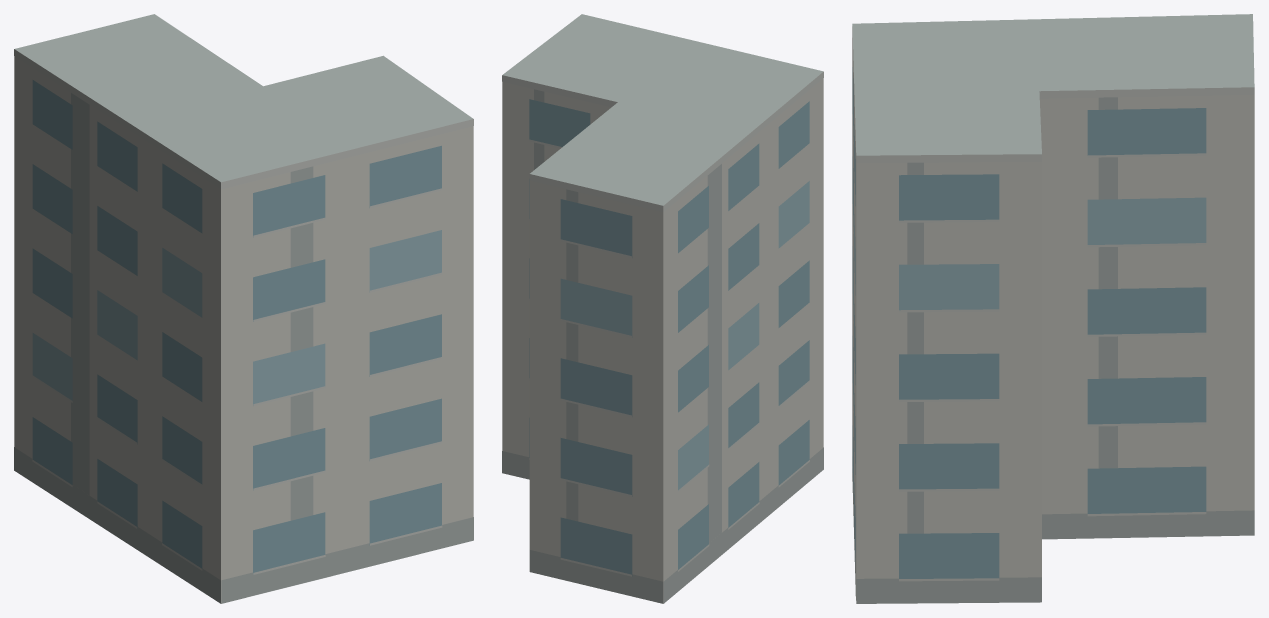
File: survey-upis-32916882.glb
3 views of the same model, side by side, from view 1: azimuth 30°, elevation 25°; view 2: azimuth 150°, elevation 25°; view 3: azimuth 270°, elevation 25° (orthographic). The views are drawn at different scales.
Parts seen in each view (by area): view 1: survey-upis-32916882.tmp; view 2: survey-upis-32916882.tmp; view 3: survey-upis-32916882.tmp.
Boxes of the visible parts, x1=… form: survey-upis-32916882.tmp: x1=14, y1=14, x2=473, y2=603; survey-upis-32916882.tmp: x1=502, y1=14, x2=823, y2=603; survey-upis-32916882.tmp: x1=852, y1=14, x2=1254, y2=603.
Bounding box in the file's own units: 9.87 × 14.55 × 11.84.
